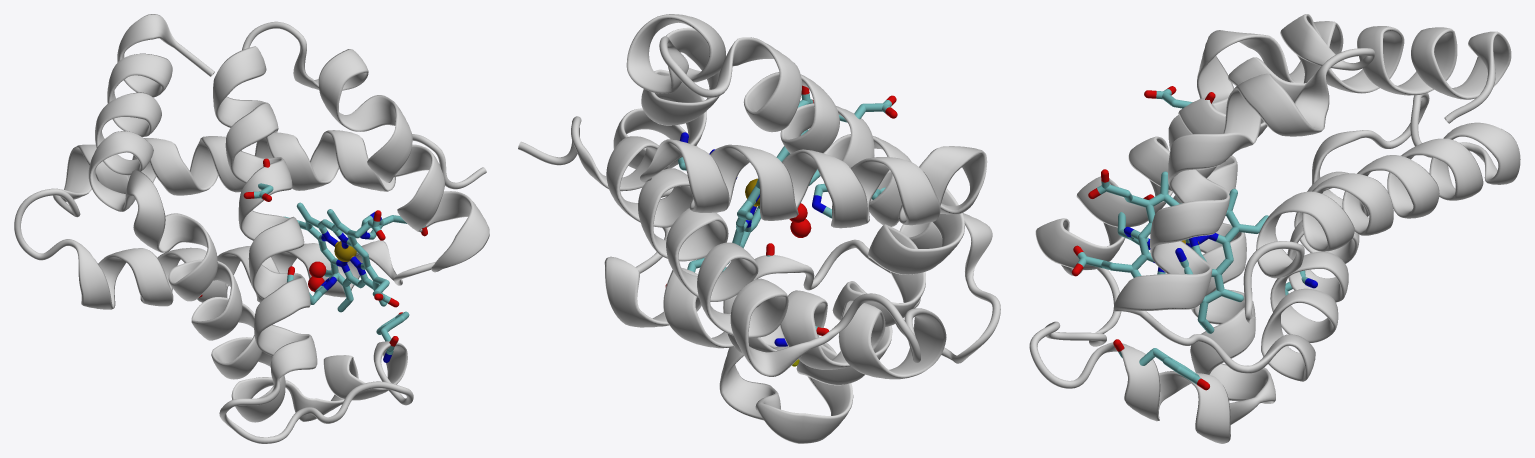
Rendered from frame13.gltf.
The picture shows the model from 3 angles, left to right: view 1: azimuth 30°, elevation 25°; view 2: azimuth 150°, elevation 25°; view 3: azimuth 270°, elevation 25°; orthographic projection. The views are drawn at different scales.
Visible parts, largest first — view 1: vmd_mol13_rep3, vmd_mol13_rep2, vmd_mol13_rep1; view 2: vmd_mol13_rep3, vmd_mol13_rep1, vmd_mol13_rep2, vmd_mol13_rep4; view 3: vmd_mol13_rep3, vmd_mol13_rep2, vmd_mol13_rep1.
Boxes of the visible parts, x1,y1,x2,y2 form: vmd_mol13_rep3: (14,14,489,443); vmd_mol13_rep2: (283,202,399,312); vmd_mol13_rep1: (199,158,427,362); vmd_mol13_rep3: (518,14,1000,443); vmd_mol13_rep1: (665,95,897,366); vmd_mol13_rep2: (728,85,820,263); vmd_mol13_rep4: (789,203,811,237); vmd_mol13_rep3: (1029,14,1520,443); vmd_mol13_rep2: (1071,169,1268,333); vmd_mol13_rep1: (1113,86,1317,390).
Size of the model in its own units: 1.41 by 1.18 by 1.29.
